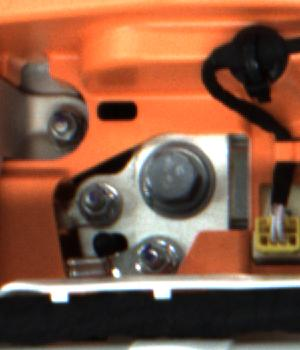nut_b: (137, 144, 216, 218)
screw_s: (42, 105, 90, 146), (139, 236, 177, 277), (77, 180, 118, 216)
